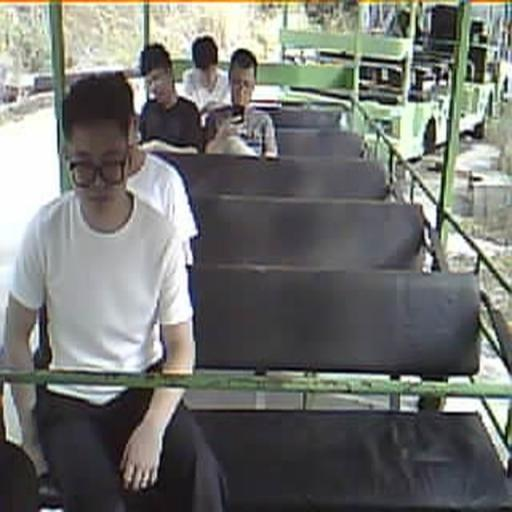persona: (4, 72, 229, 510), (204, 48, 279, 158), (137, 42, 205, 154), (180, 34, 232, 114)
